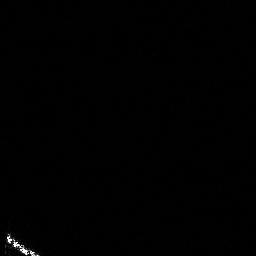ship: (4, 229, 45, 256)
